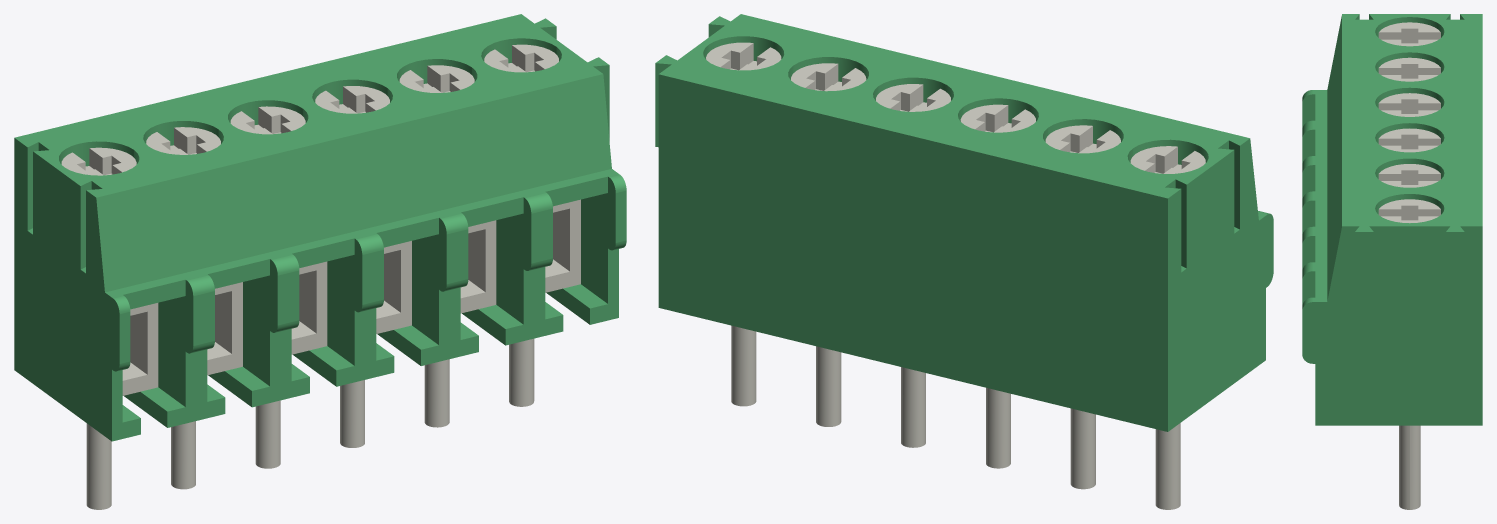
The model's file is kc-terminalblock_phoenix_pt-1_5-6-3.5-h_1x06_p3.50mm_horizontal.glb.
The picture shows the model from 3 angles, left to right: view 1: azimuth 30°, elevation 25°; view 2: azimuth 150°, elevation 25°; view 3: azimuth 270°, elevation 25°; orthographic projection. The views are drawn at different scales.
Visible parts, largest first — view 1: 0.08333333333333333_0.4166666666666667_0.16666666666666666_0, 0.6666666666666666_0.6666666666666666_0.5833333333333334_0.8; view 2: 0.08333333333333333_0.4166666666666667_0.16666666666666666_0, 0.6666666666666666_0.6666666666666666_0.5833333333333334_0.8; view 3: 0.08333333333333333_0.4166666666666667_0.16666666666666666_0, 0.6666666666666666_0.6666666666666666_0.5833333333333334_0.8.
Part boxes in pixels (x1,y1,x2,y2): 0.08333333333333333_0.4166666666666667_0.16666666666666666_0: (14, 14, 626, 441); 0.6666666666666666_0.6666666666666666_0.5833333333333334_0.8: (61, 44, 580, 509); 0.08333333333333333_0.4166666666666667_0.16666666666666666_0: (655, 14, 1273, 431); 0.6666666666666666_0.6666666666666666_0.5833333333333334_0.8: (706, 42, 1205, 509); 0.08333333333333333_0.4166666666666667_0.16666666666666666_0: (1302, 14, 1482, 425); 0.6666666666666666_0.6666666666666666_0.5833333333333334_0.8: (1378, 22, 1440, 509).
Size of the model in its own units: 2.16 by 1.37 by 0.755.
